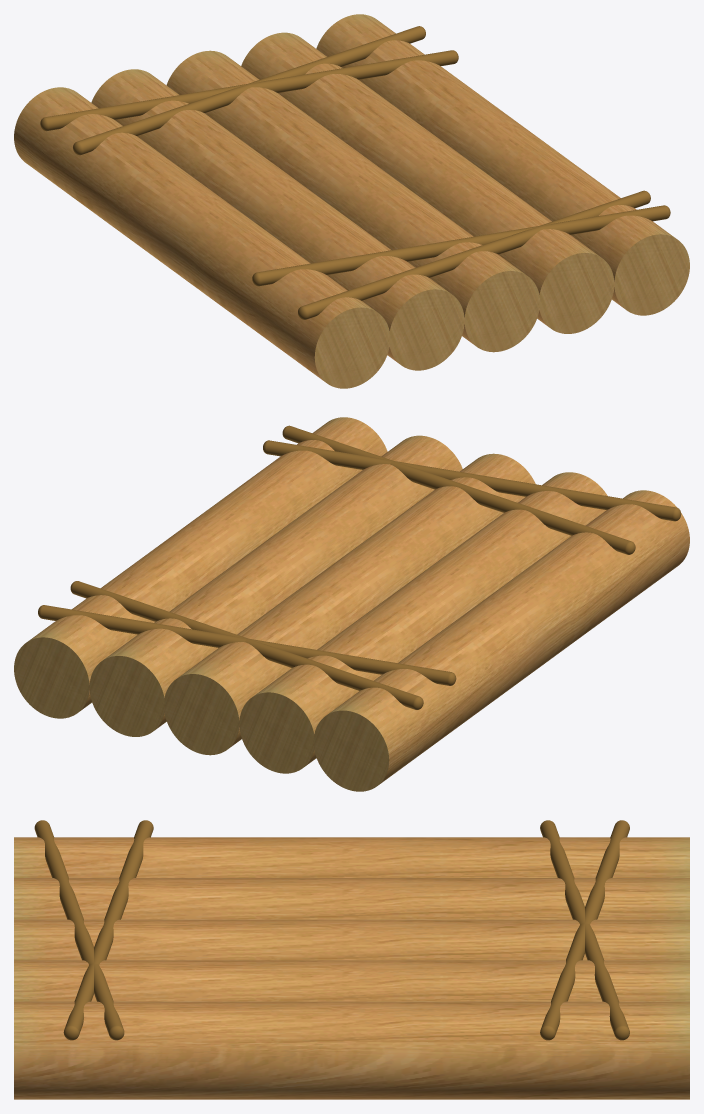
The model's file is Raft.fbx.
3 views of the same model, one above another, from view 1: azimuth 30°, elevation 25°; view 2: azimuth 150°, elevation 25°; view 3: azimuth 270°, elevation 25° (orthographic). The views are drawn at different scales.
Visible parts, largest first — view 1: root (×9); view 2: root (×9); view 3: root (×9).
Part boxes in pixels (x1,y1,x2,y2): root (×9): (14, 14, 689, 388); root (×9): (14, 417, 689, 791); root (×9): (14, 820, 689, 1099).
Bounding box in the file's own units: 0.2778 × 0.0557 × 0.3774.
3 materials, 3 textured.
